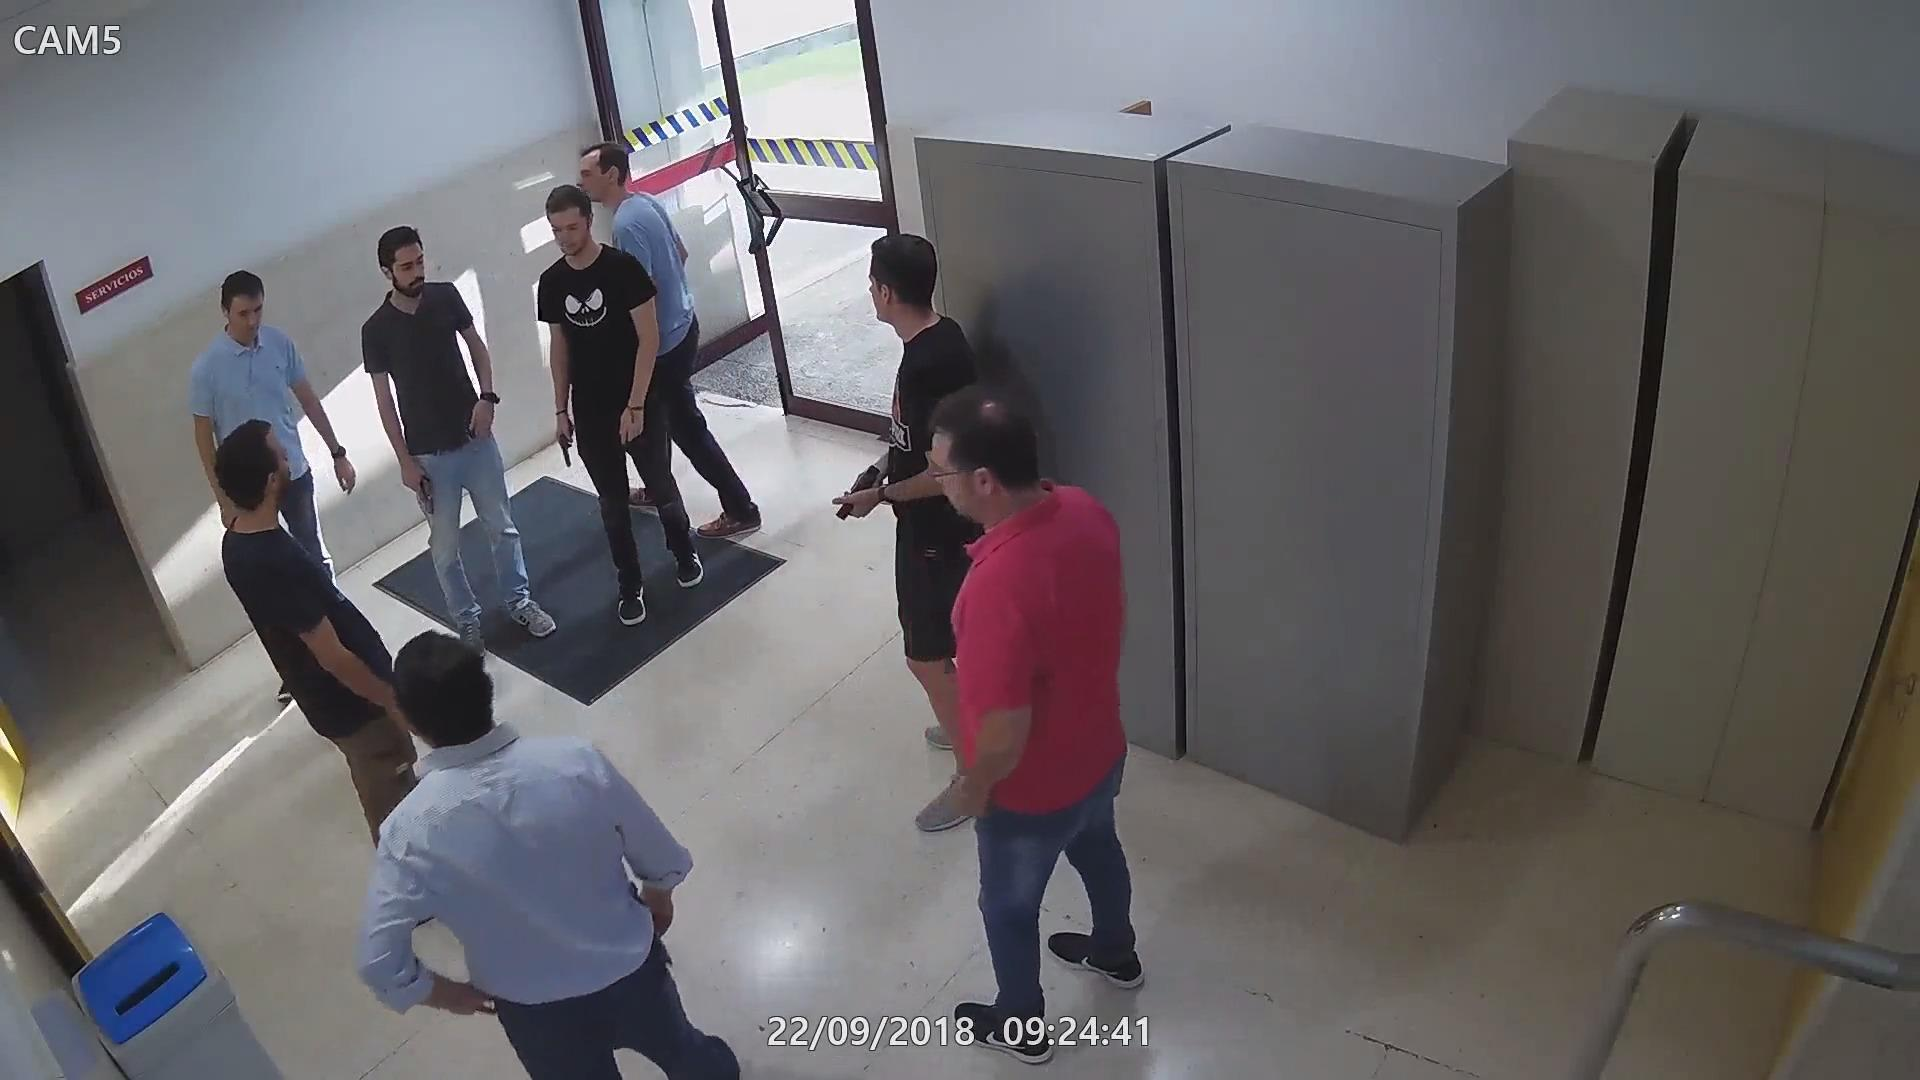Handgun: (829, 452, 893, 524), (398, 462, 434, 516), (550, 413, 576, 468)
